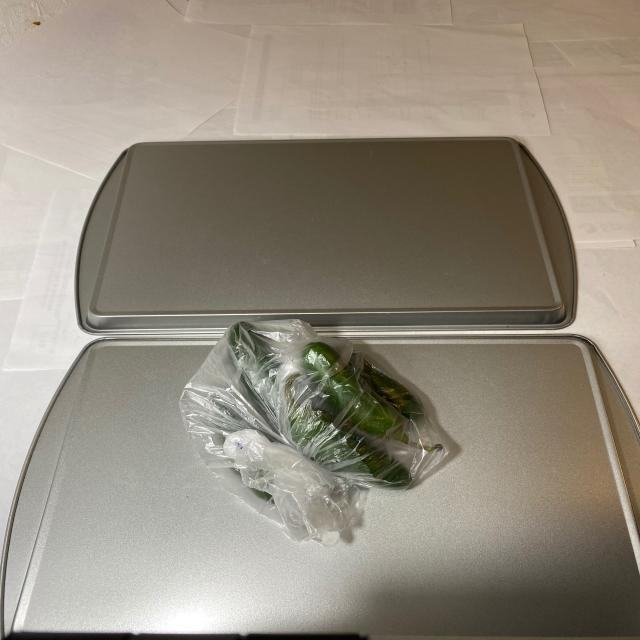chilli: (183, 322, 452, 507)
